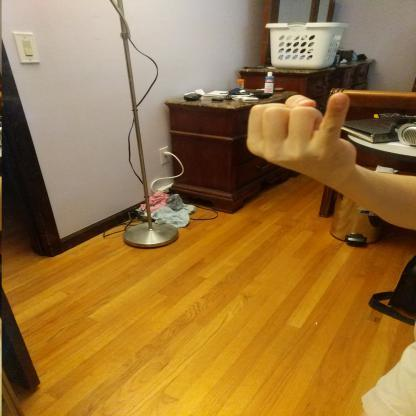J: (238, 88, 362, 188)
